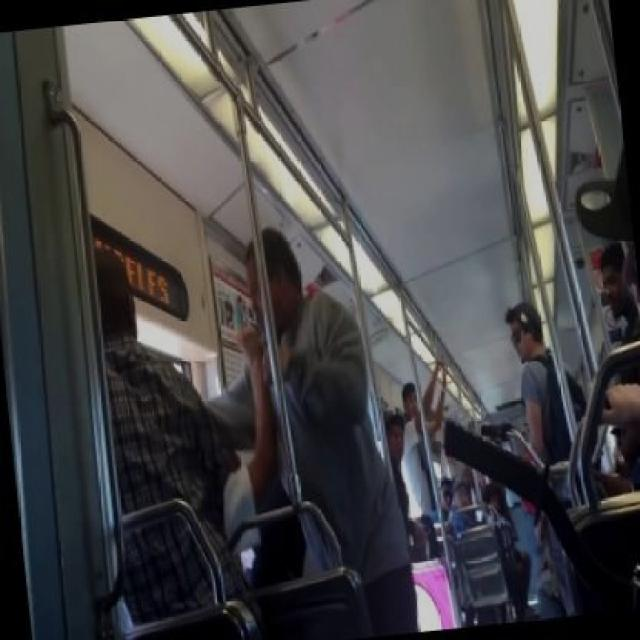fight: (91, 207, 422, 638)
non-fight: (480, 288, 608, 615)
